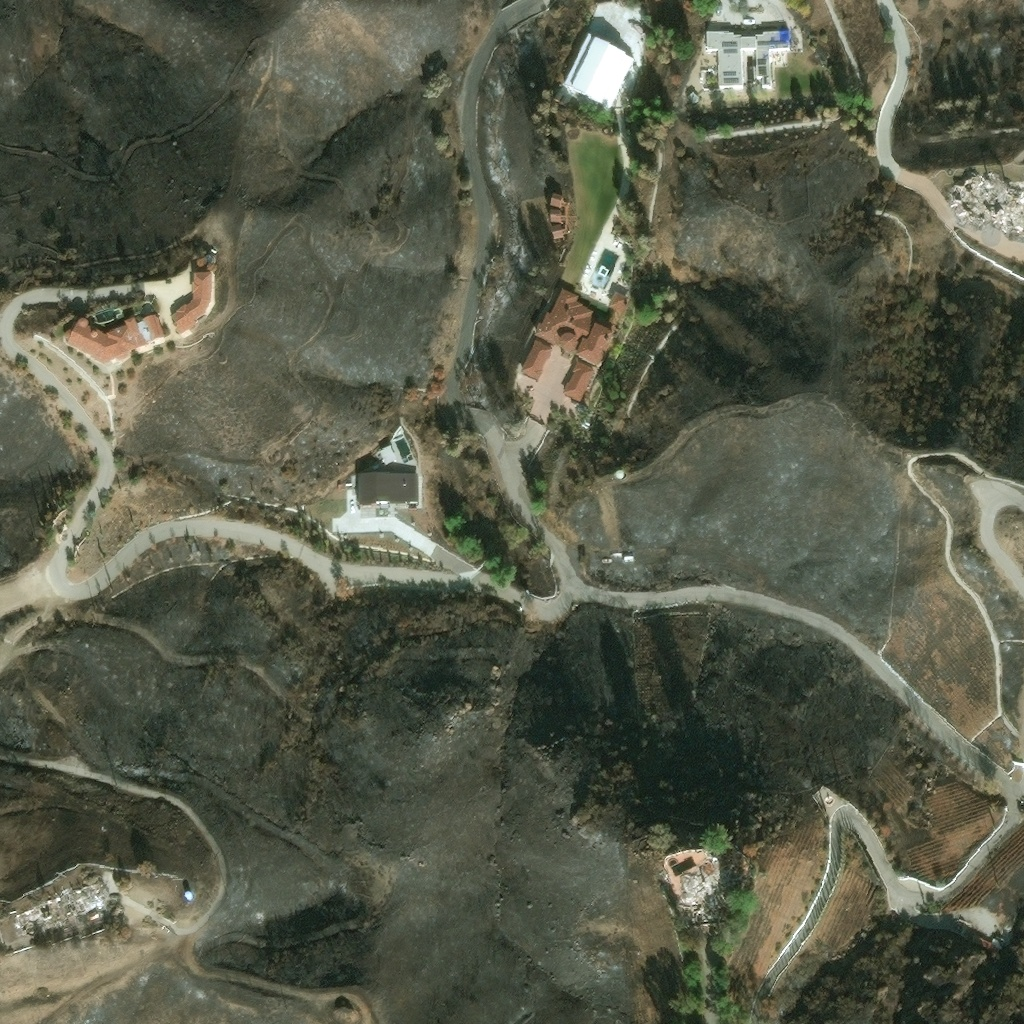0 no-damage: (563, 33, 638, 109), (64, 314, 167, 364), (536, 287, 597, 355), (171, 273, 211, 337), (358, 469, 419, 509), (574, 314, 617, 368), (521, 339, 556, 382), (562, 361, 597, 402), (609, 291, 631, 315), (972, 932, 995, 950), (999, 924, 1015, 943), (549, 226, 566, 243), (549, 194, 565, 211), (688, 90, 701, 104), (382, 446, 395, 460), (550, 212, 563, 225), (994, 937, 1007, 949), (616, 471, 626, 481), (185, 892, 194, 903), (750, 75, 758, 84), (204, 256, 214, 263)
1 minor-damage: (706, 31, 791, 88), (98, 908, 110, 920), (624, 555, 635, 564), (611, 552, 623, 559)
3 destroyed: (13, 880, 107, 939), (678, 856, 749, 929), (952, 173, 1023, 232), (570, 131, 578, 136)
4 un-classified: (781, 55, 788, 64), (773, 54, 779, 64)
